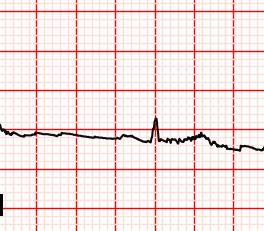Poor R Progression: (147, 114, 163, 147)
